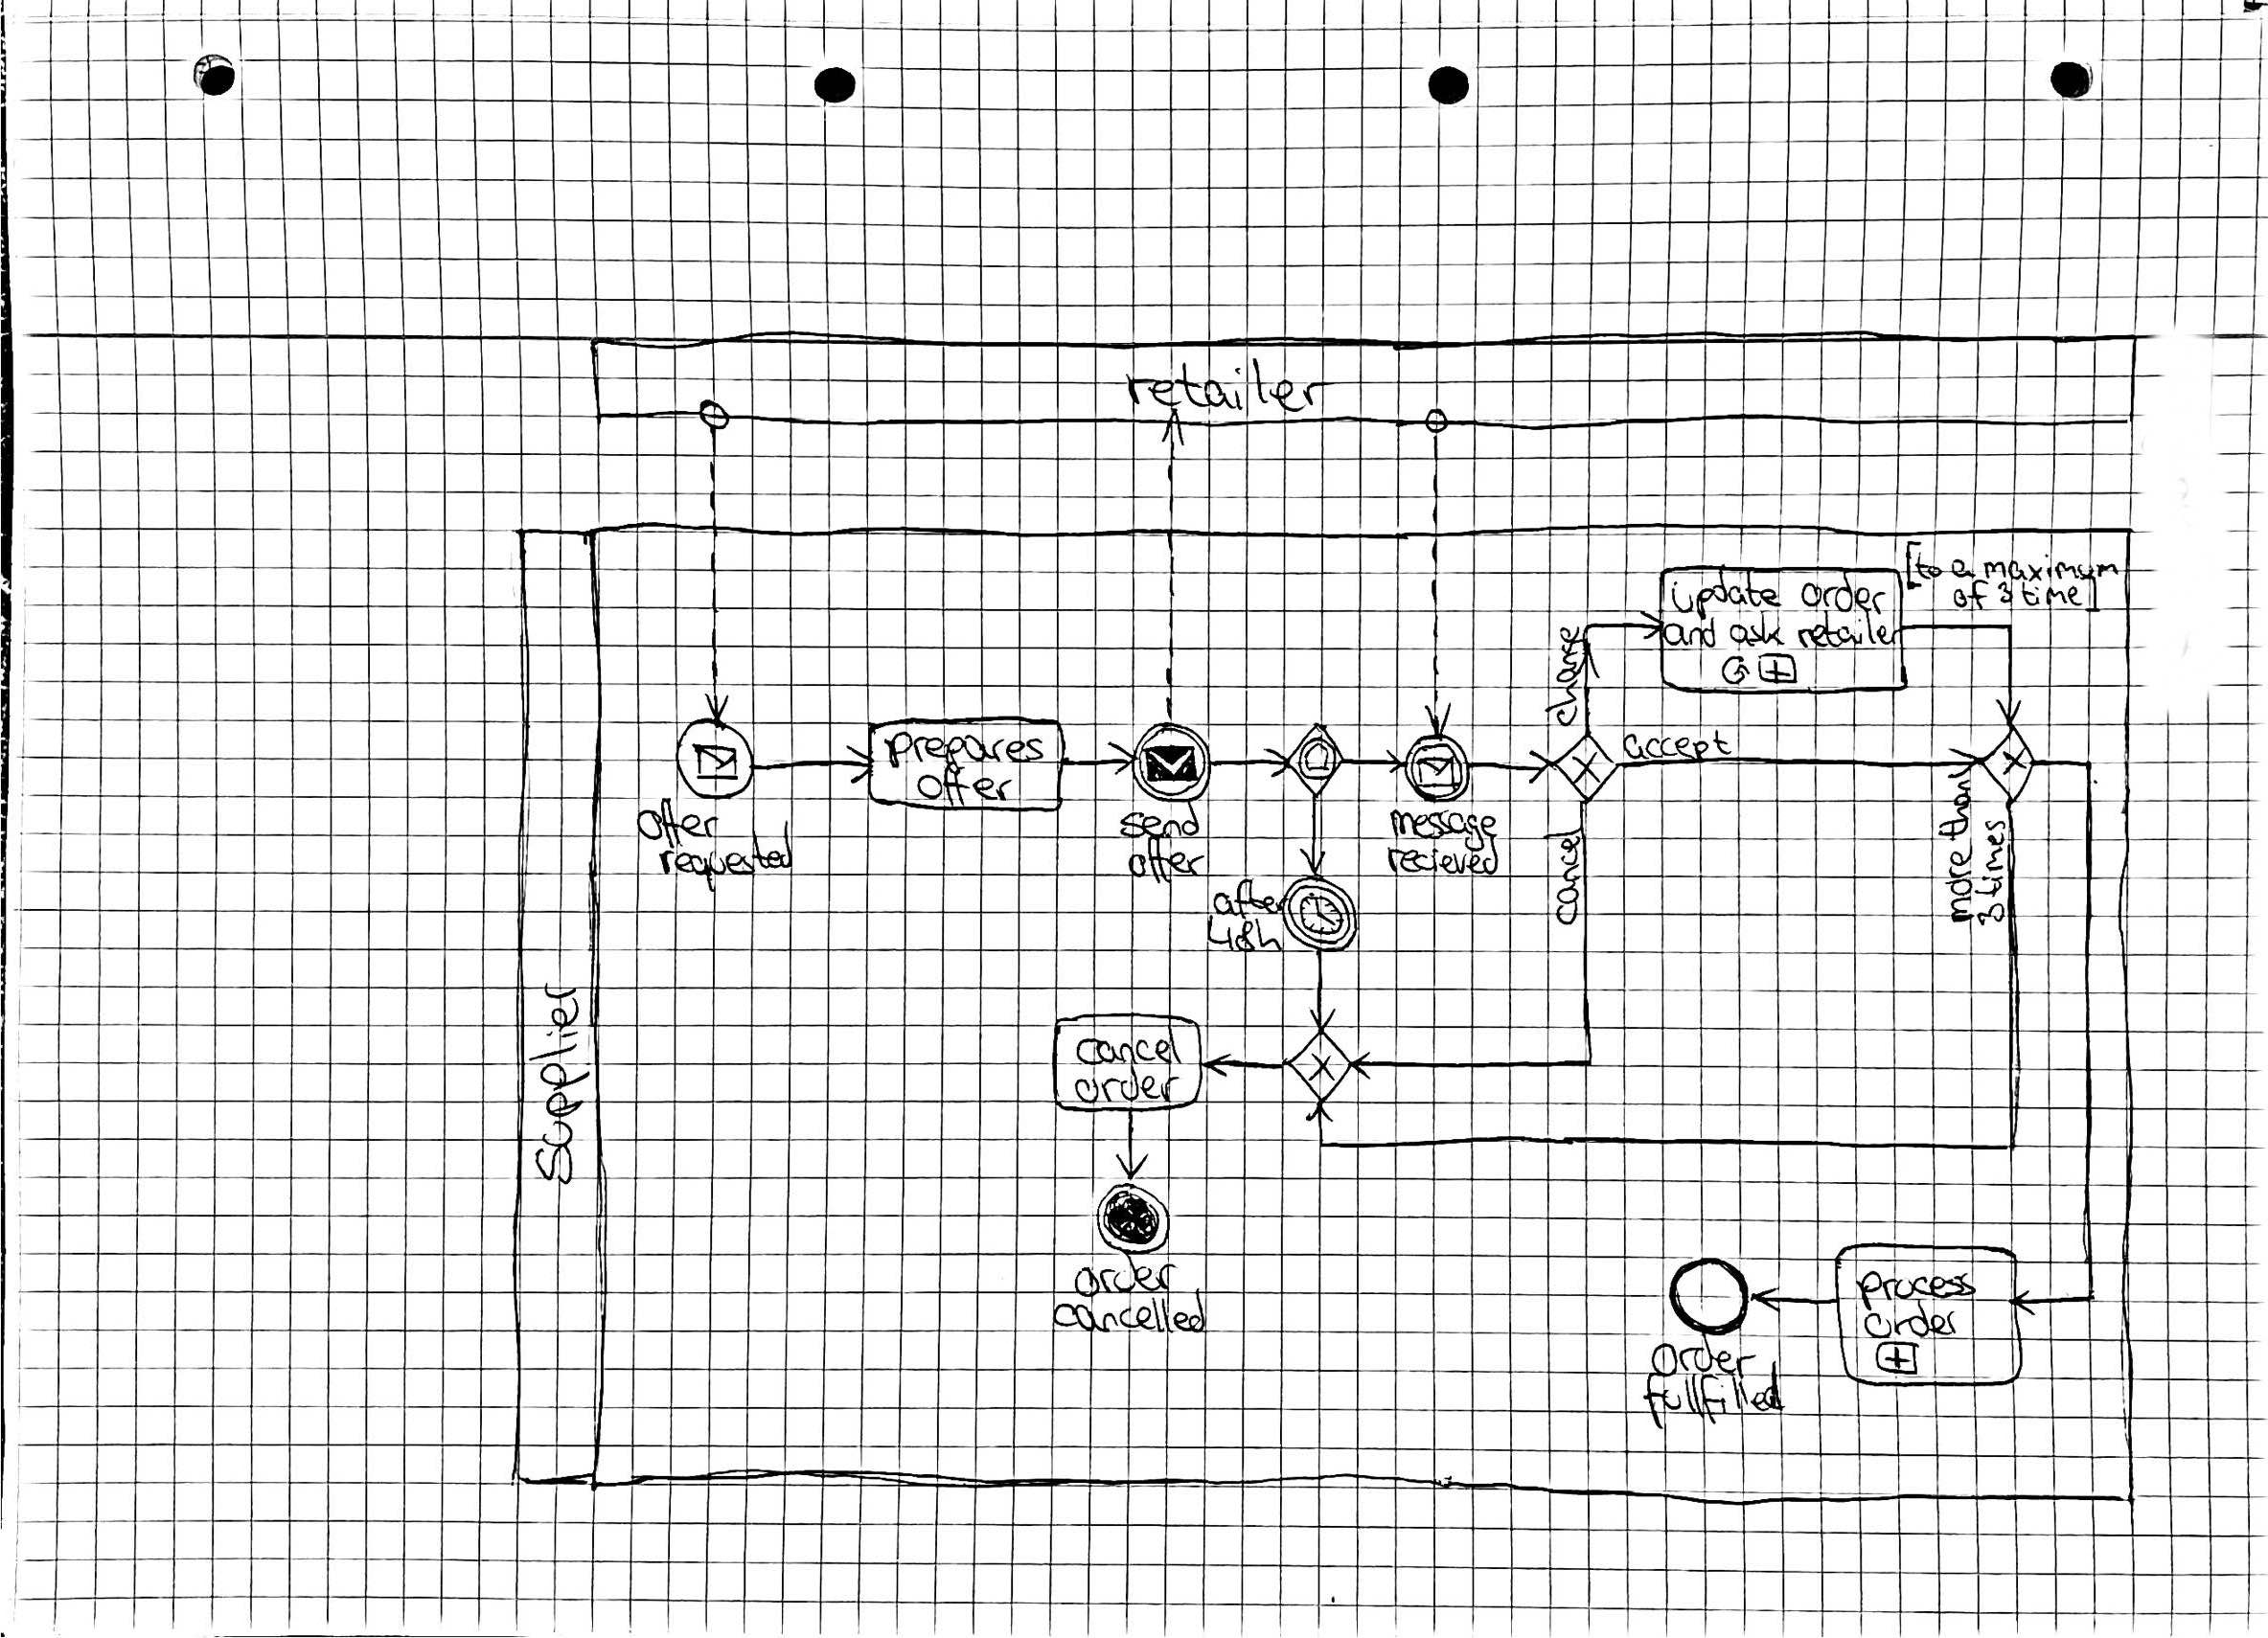3: (1970, 902, 2007, 925), (1995, 576, 2014, 608)
48: (1211, 911, 1257, 955)
Order: (1655, 1340, 1756, 1377)
Process: (1861, 1268, 1977, 1307)
[to: (1895, 537, 1942, 583)
a: (1949, 548, 1981, 585)
accept: (1629, 731, 1727, 766)
and: (1659, 616, 1717, 664)
ask: (1720, 616, 1782, 653)
cancel: (1079, 1036, 1185, 1071), (1551, 823, 1583, 919)
cancelled: (1057, 1300, 1206, 1339)
change: (1537, 622, 1592, 733)
fulfilled: (1638, 1369, 1778, 1427)
h: (1255, 914, 1284, 956)
maximum: (1986, 551, 2129, 588)
message: (1396, 808, 1500, 844)
more: (1939, 845, 1979, 914)
of: (1948, 583, 1990, 613)
offer: (636, 798, 722, 849), (919, 766, 1018, 805), (1213, 882, 1289, 919), (1129, 847, 1203, 884)
order: (1067, 1066, 1185, 1110), (1798, 576, 1888, 620), (1079, 1261, 1180, 1300), (1870, 1303, 1958, 1340)
prepares: (891, 731, 1057, 771)
recieved: (1386, 844, 1506, 879)
requested: (653, 840, 791, 882)
retailer: (1116, 365, 1319, 423), (1787, 616, 1895, 655)
send: (1123, 810, 1203, 847)
supplier: (534, 981, 588, 1177)
than: (1939, 775, 1976, 840)
time]: (2020, 578, 2108, 613)
times: (1972, 810, 2013, 902)
update: (1669, 574, 1794, 620)
